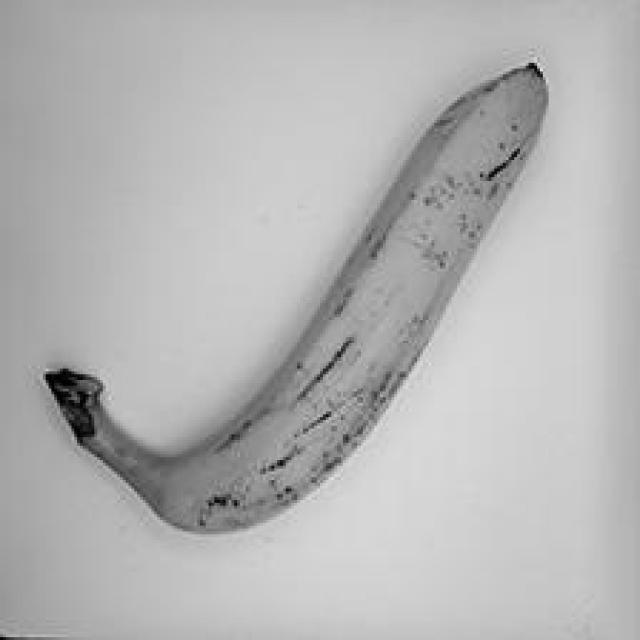Overripe: (35, 17, 561, 569)
